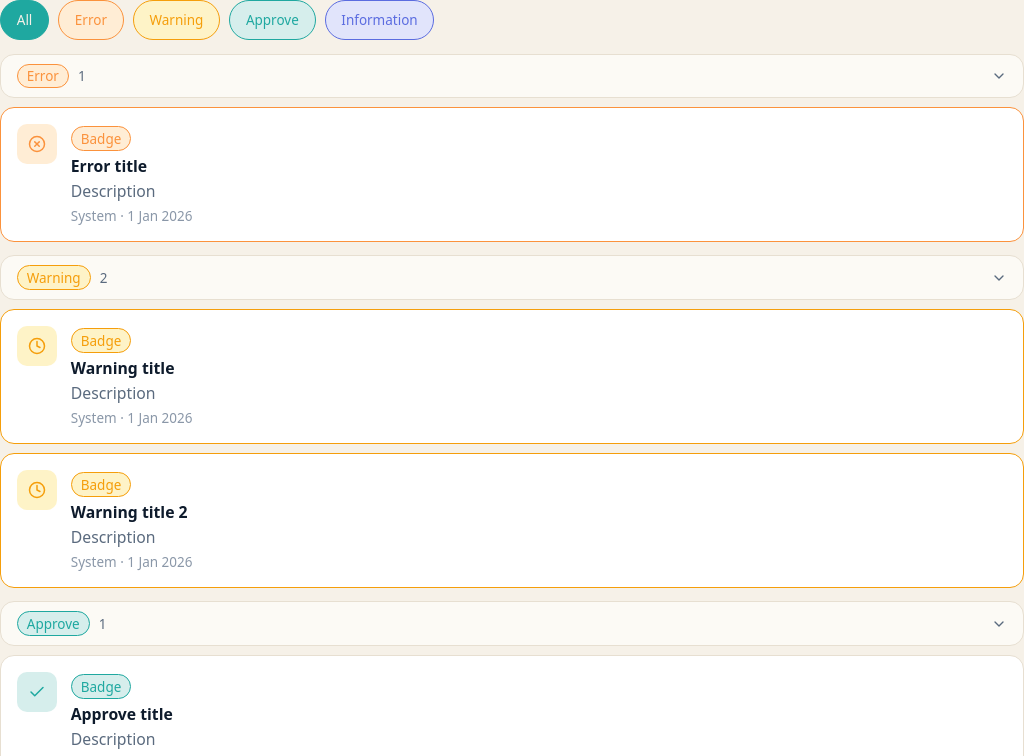
Scenario: MessagesTab — grouping, filter, collapse (STA-253) › collapsing a group hides its cards but keeps the header visible
expect the text "Warning title" is shown: met, box [71,357,174,379]
expect the text "Warning title 2" is shown: met, box [71,501,188,523]
Click the button "Warning 2". click: (54, 278)
box: [0,256,1023,300]
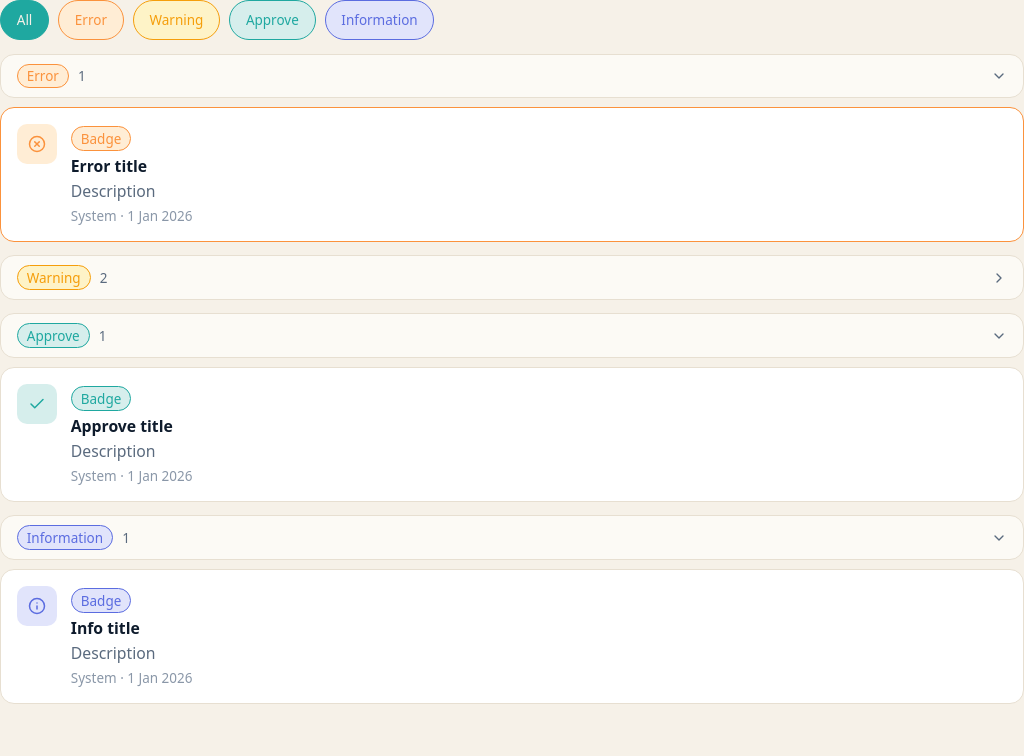
expect the text "Error title" is shown: met, box [71,156,147,178]
expect the text "Warning title" is gone: met
expect the text "Warning title 2" is gone: met
